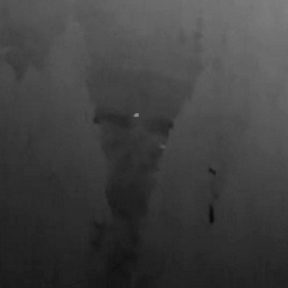Target: (133, 113, 140, 118)
